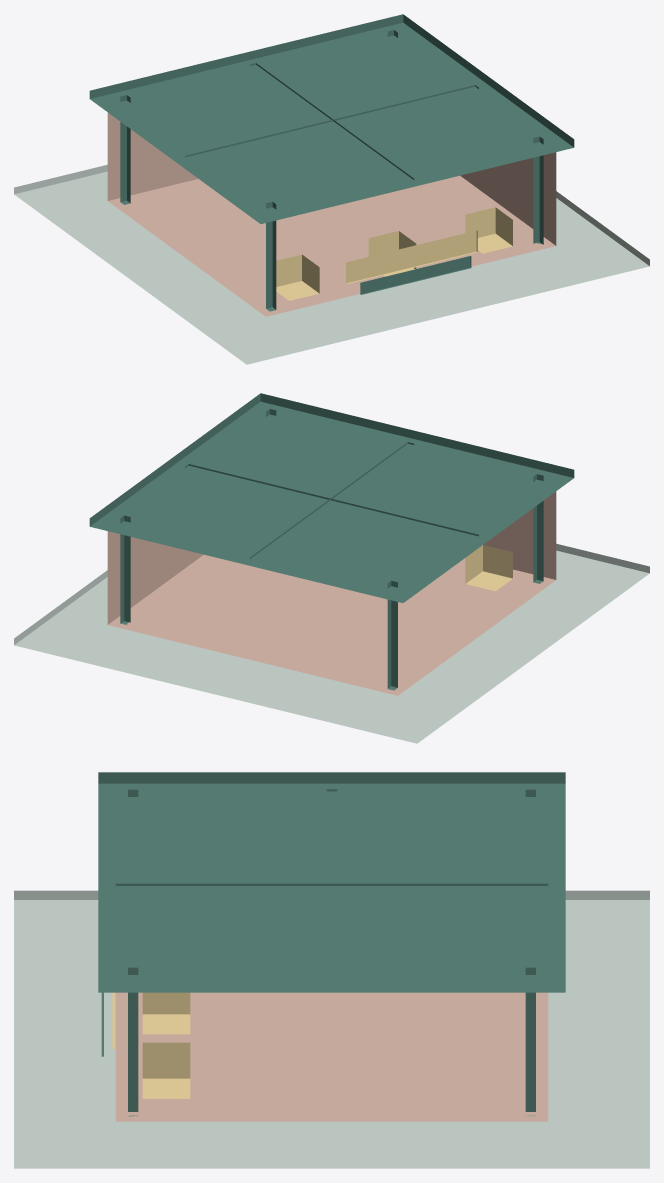
The model's file is slaughter.glb.
3 views of the same model, one above another, from view 1: azimuth 30°, elevation 25°; view 2: azimuth 150°, elevation 25°; view 3: azimuth 270°, elevation 25° (orthographic). The views are drawn at different scales.
Visible parts, largest first — view 1: Roof, Foundation, Walls, Details, Frame; view 2: Roof, Walls, Foundation, Frame, Details; view 3: Roof, Foundation, Walls, Details, Frame.
Part boxes in pixels (x1,y1,x2,y2): Roof: (89, 14, 574, 223); Foundation: (14, 164, 649, 364); Walls: (107, 112, 556, 316); Details: (276, 207, 512, 300); Frame: (120, 30, 543, 311); Roof: (89, 393, 574, 602); Walls: (107, 491, 556, 695); Foundation: (14, 543, 649, 743); Frame: (120, 409, 543, 690); Details: (465, 545, 512, 591); Roof: (98, 772, 565, 992); Foundation: (14, 890, 649, 1168); Walls: (115, 992, 548, 1121); Details: (101, 992, 190, 1098); Frame: (115, 789, 548, 1116).
Size of the model in its own units: 40 by 10.94 by 40.
